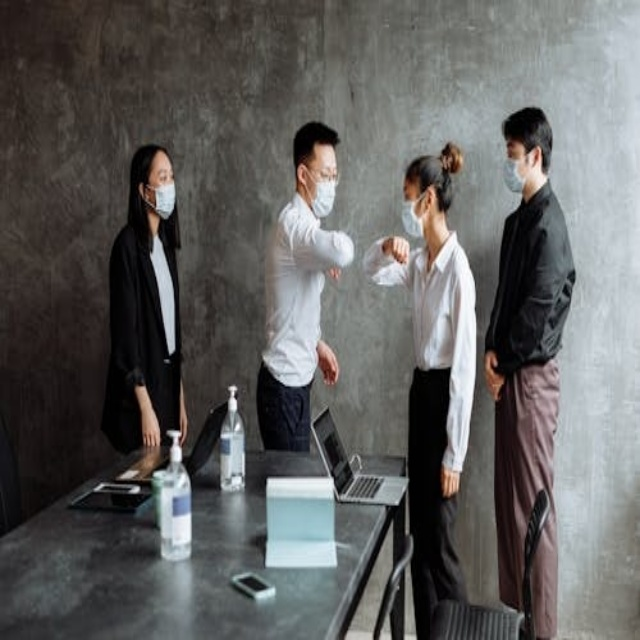Gafas: (298, 160, 340, 186)
Mascara: (303, 169, 337, 218), (401, 193, 429, 238), (502, 152, 532, 193), (145, 182, 176, 219)
Sin_gafas: (143, 160, 178, 183), (398, 181, 419, 200), (502, 140, 521, 158)
Sin_guantes: (314, 332, 343, 388), (481, 346, 504, 407), (383, 227, 413, 271), (137, 400, 160, 450), (435, 463, 462, 498), (179, 381, 192, 446)
